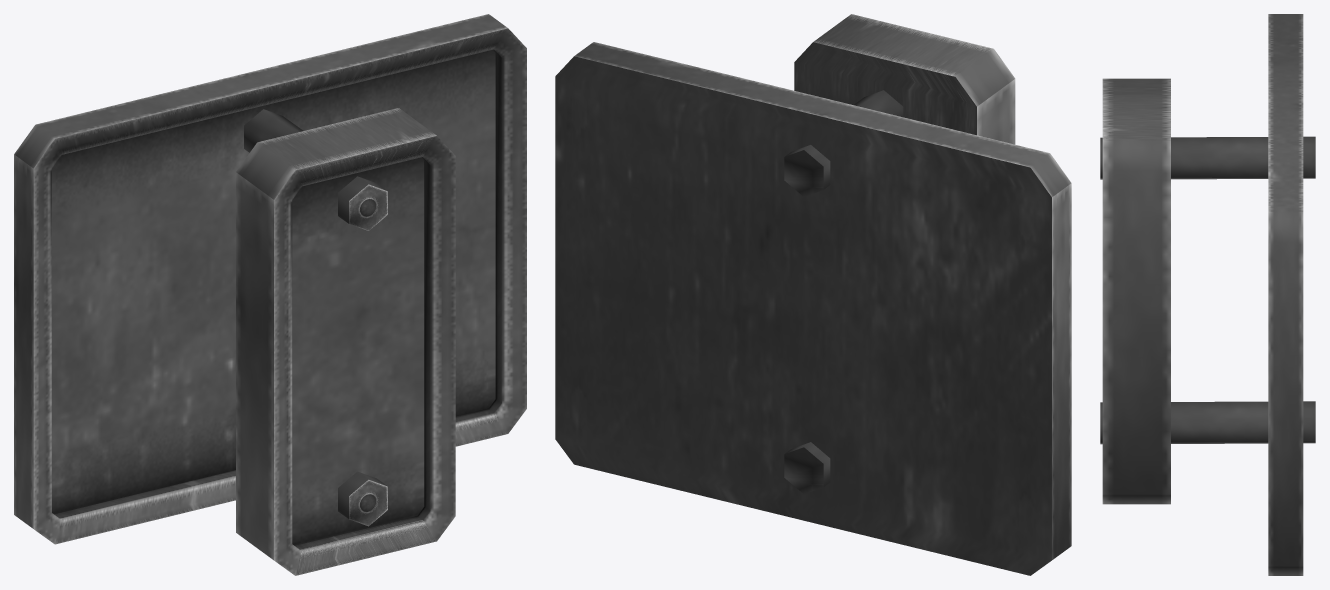
Rendered from UI_3d_buttonSlider.FBX.
3 views of the same model, side by side, from view 1: azimuth 30°, elevation 25°; view 2: azimuth 150°, elevation 25°; view 3: azimuth 270°, elevation 25° (orthographic). The views are drawn at different scales.
Parts seen in each view (by area): view 1: UI_3d_buttonSlider; view 2: UI_3d_buttonSlider; view 3: UI_3d_buttonSlider.
Boxes of the visible parts, x1,y1,x2,y2 form: UI_3d_buttonSlider: (14, 14, 526, 575); UI_3d_buttonSlider: (555, 14, 1071, 575); UI_3d_buttonSlider: (1100, 14, 1315, 575).
Size of the model in its own units: 11.71 by 9.2 by 4.94.
Materials: 1 (1 with a texture image).
